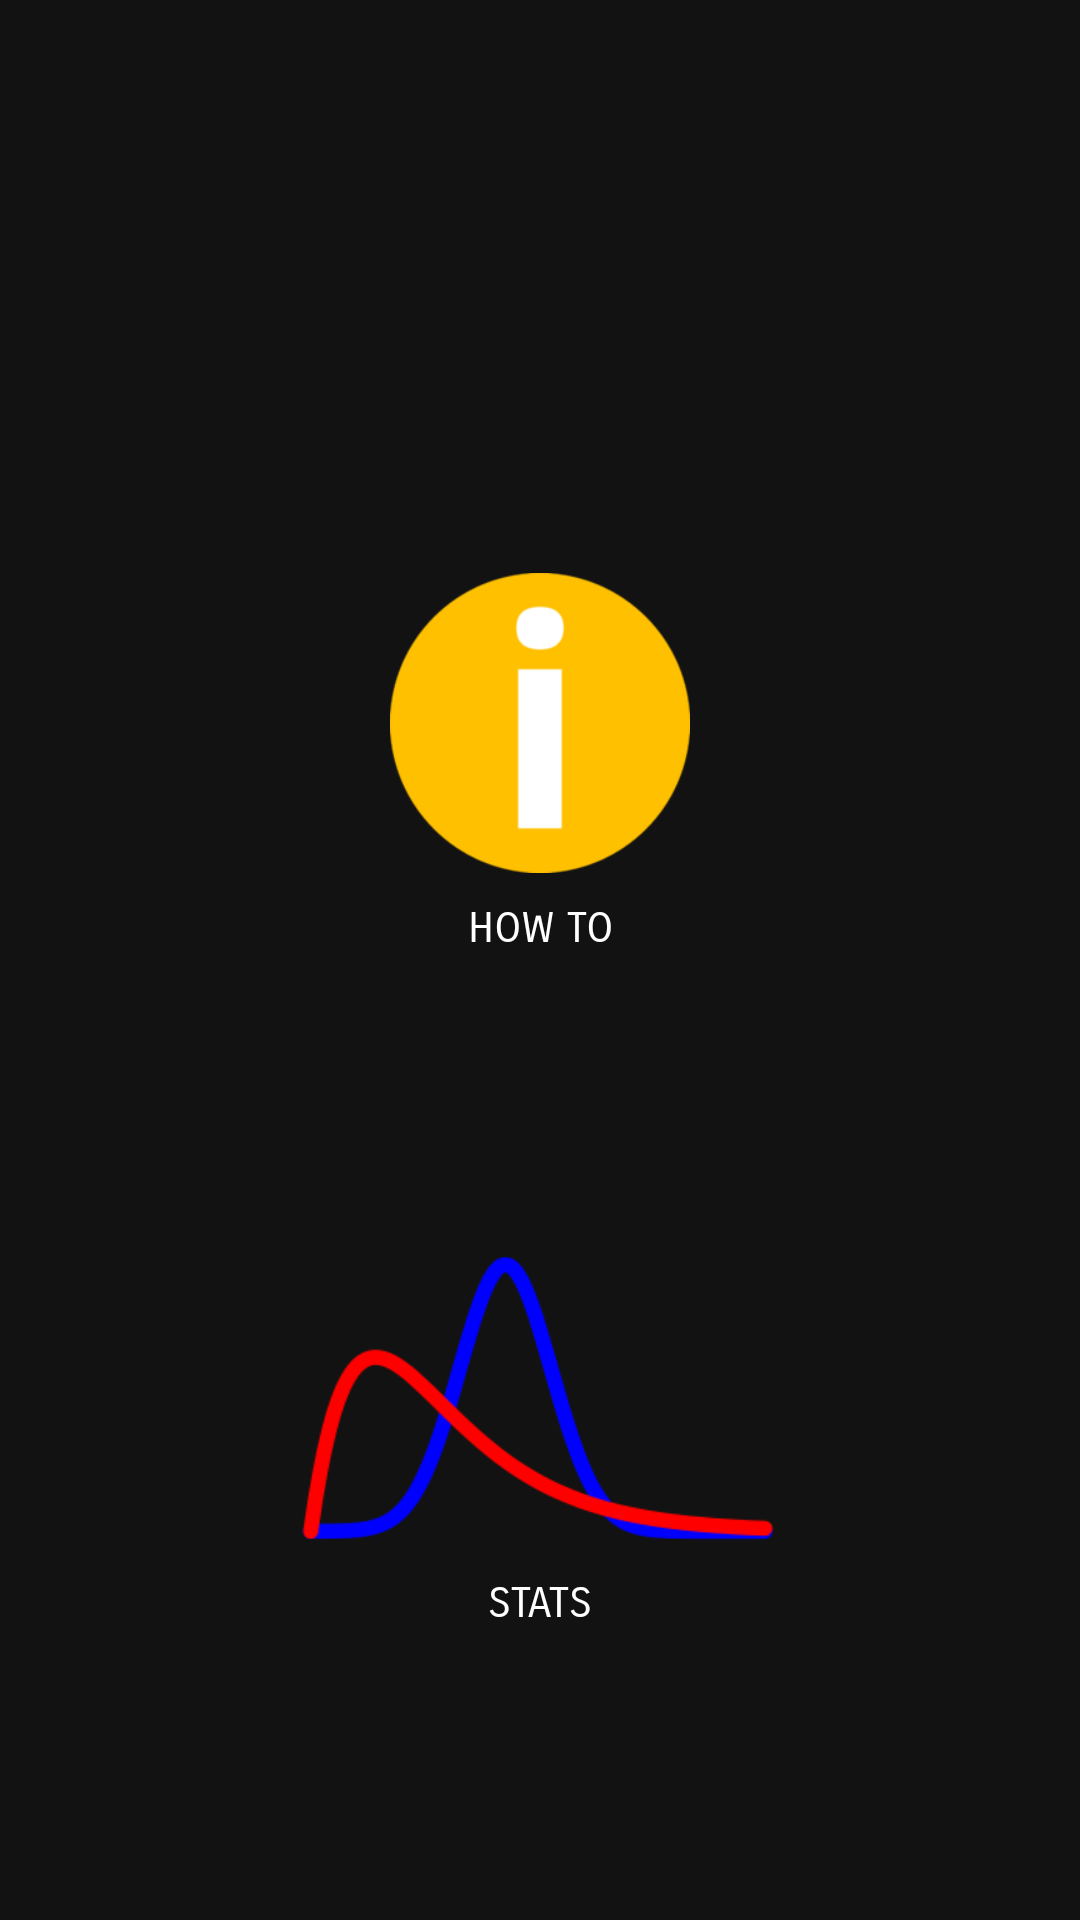

Point at icon controls on the screen. Image size 1080×1920, points as [x,y].
info: [540,723]
